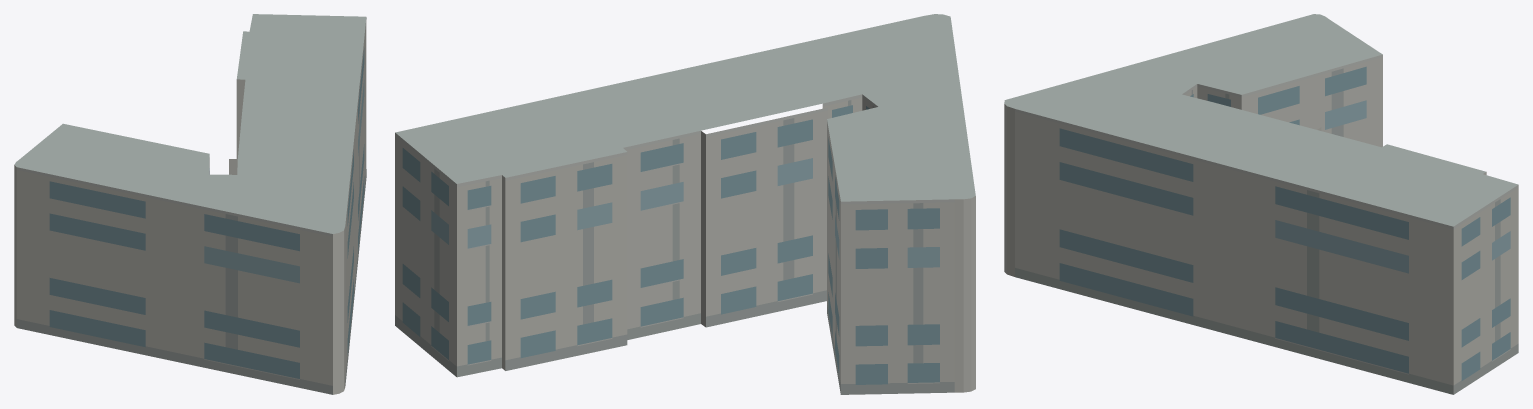
The model's file is survey-upis-32672408.glb.
The picture shows the model from 3 angles, left to right: view 1: azimuth 30°, elevation 25°; view 2: azimuth 150°, elevation 25°; view 3: azimuth 270°, elevation 25°; orthographic projection. The views are drawn at different scales.
Parts seen in each view (by area): view 1: survey-upis-32672408.tmp; view 2: survey-upis-32672408.tmp; view 3: survey-upis-32672408.tmp.
Boxes of the visible parts, left/top/right/bottom form: survey-upis-32672408.tmp: left=14, top=14, right=366, bottom=394; survey-upis-32672408.tmp: left=395, top=14, right=975, bottom=394; survey-upis-32672408.tmp: left=1004, top=14, right=1518, bottom=394.
Size of the model in its own units: 41.34 by 15.25 by 42.25.
